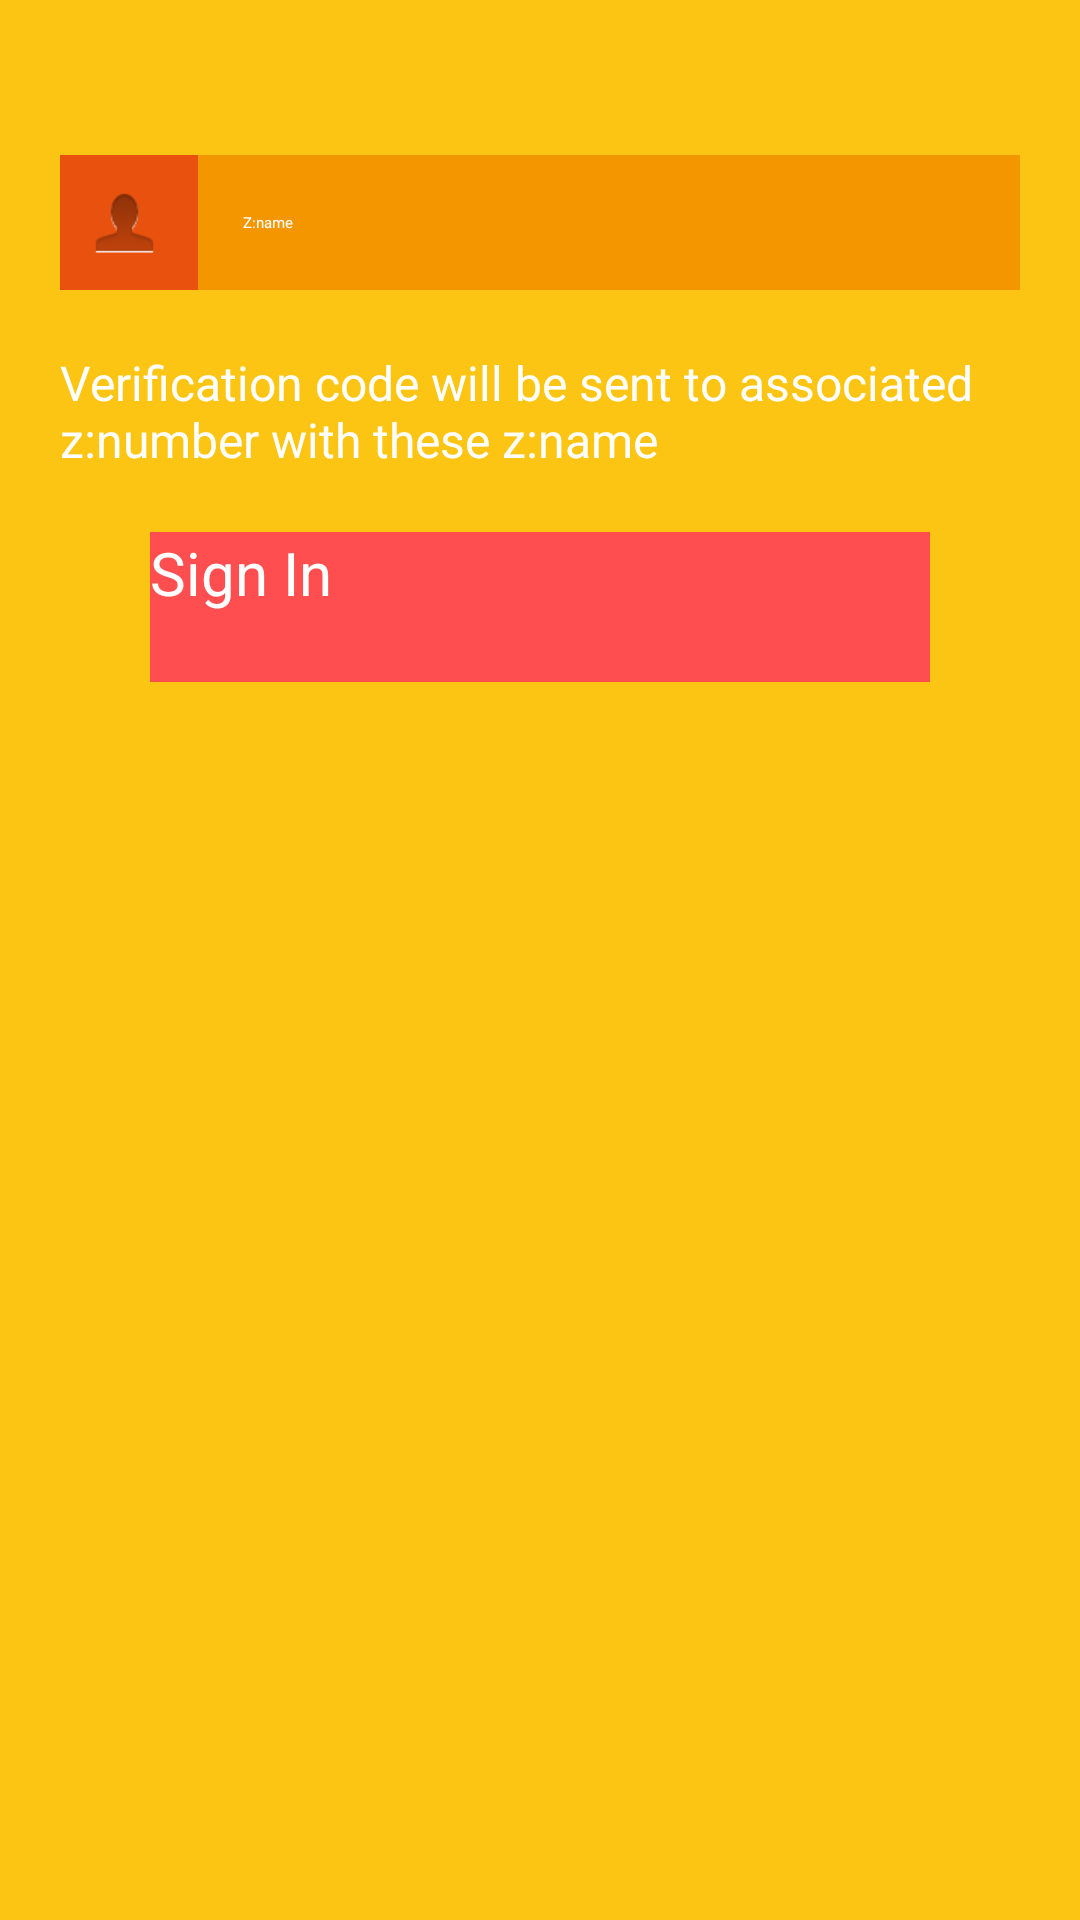

Screen size 1080*1920. Icon name, then its center in pixels as (x,y):
accounts glyph username: (124,223)
